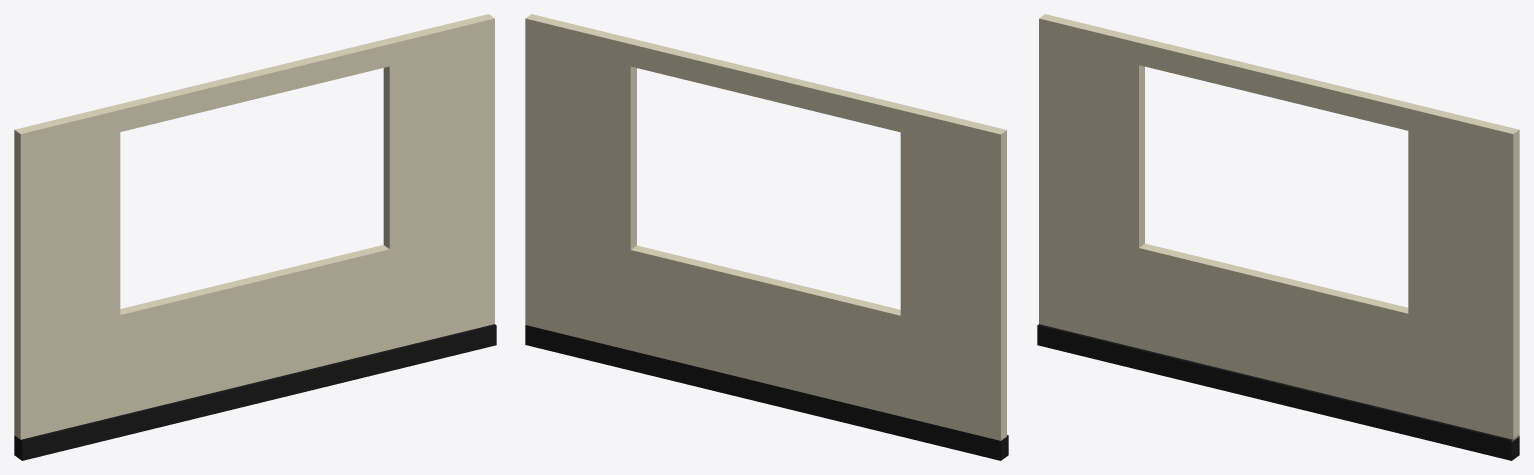
Rendered from Wall 4.FBX.
The picture shows the model from 3 angles, left to right: view 1: azimuth 30°, elevation 25°; view 2: azimuth 150°, elevation 25°; view 3: azimuth 330°, elevation 25°; orthographic projection.
Parts seen in each view (by area): view 1: Wall 4; view 2: Wall 4; view 3: Wall 4.
Boxes of the visible parts, x1,y1,x2,y2 form: Wall 4: (14,14,496,460); Wall 4: (525,14,1008,460); Wall 4: (1037,14,1519,460).
Bounding box in the file's own units: 398 × 261 × 11.22.
1 material, 1 textured.
